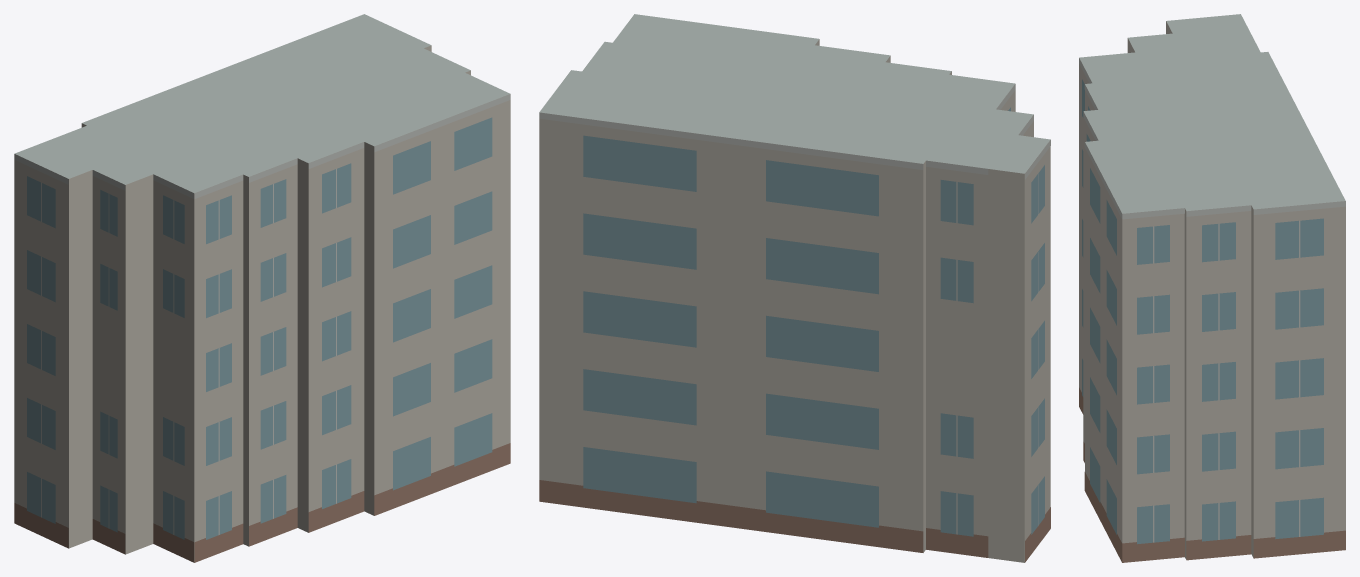
Rendered from survey-upis-32621066.glb.
The picture shows the model from 3 angles, left to right: view 1: azimuth 30°, elevation 25°; view 2: azimuth 150°, elevation 25°; view 3: azimuth 270°, elevation 25°; orthographic projection. The views are drawn at different scales.
Parts seen in each view (by area): view 1: survey-upis-32621066.tmp; view 2: survey-upis-32621066.tmp; view 3: survey-upis-32621066.tmp.
Boxes of the visible parts, left/top/right/bottom form: survey-upis-32621066.tmp: left=14, top=14, right=510, bottom=562; survey-upis-32621066.tmp: left=539, top=14, right=1050, bottom=562; survey-upis-32621066.tmp: left=1079, top=14, right=1345, bottom=562.
Size of the model in its own units: 18.55 by 15.1 by 10.47.
